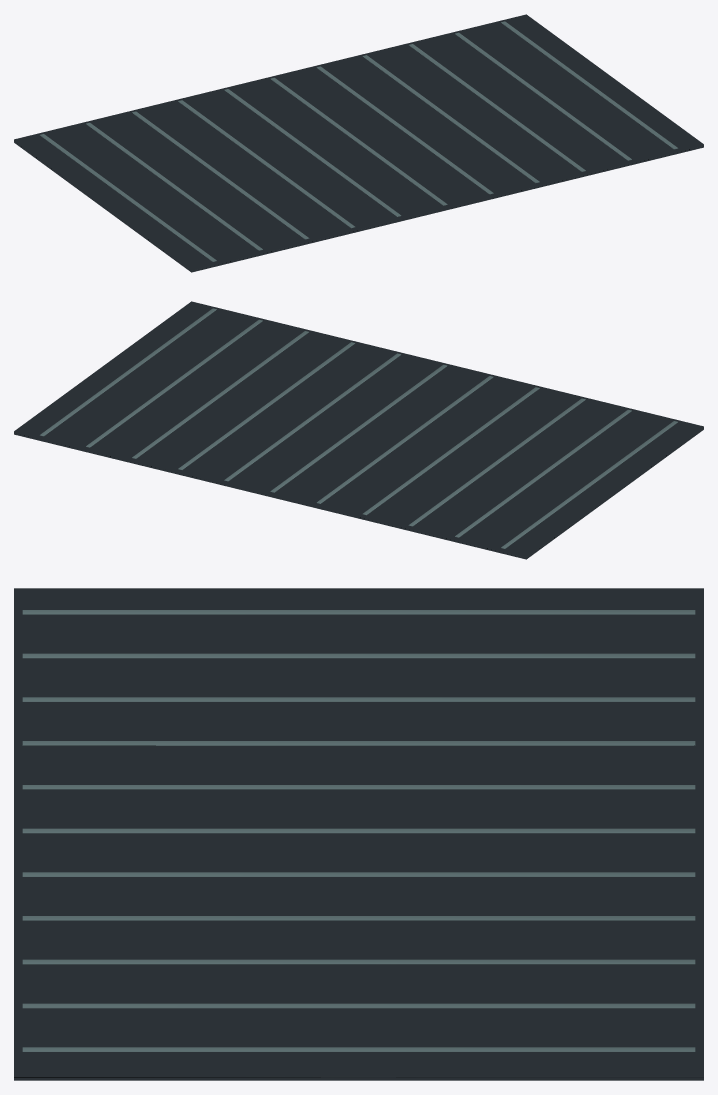
File: corner_belt.dae
3 renders of one model, top to bottom at view 1: azimuth 30°, elevation 25°; view 2: azimuth 150°, elevation 25°; view 3: azimuth 270°, elevation 25°, orthographic. The views are drawn at different scales.
Visible parts, largest first — view 1: contact, texture_-0.270, texture_-0.180, texture_-0.090, texture_0.450, texture_0.090, texture_0.180, texture_0.360, texture_-0.360, texture_0.000, texture_0.270, texture_-0.450; view 2: contact, texture_-0.270, texture_-0.180, texture_-0.090, texture_0.450, texture_0.090, texture_0.180, texture_0.360, texture_-0.360, texture_0.000, texture_0.270, texture_-0.450; view 3: contact, texture_0.270, texture_-0.360, texture_0.000, texture_0.360, texture_-0.450, texture_-0.270, texture_-0.180, texture_-0.090, texture_0.090, texture_0.180, texture_0.450.
Boxes of the visible parts, x1,y1,x2,y2 form: contact: (14,14,703,272); texture_-0.270: (132,111,309,239); texture_-0.180: (178,100,354,228); texture_-0.090: (224,89,401,216); texture_0.450: (501,21,677,149); texture_0.090: (316,66,493,194); texture_0.180: (362,55,539,182); texture_0.360: (455,32,631,160); texture_-0.360: (86,122,262,250); texture_0.000: (270,77,447,205); texture_0.270: (409,44,585,171); texture_-0.450: (40,134,216,261); contact: (14,301,703,559); texture_-0.270: (408,398,585,526); texture_-0.180: (363,387,539,515); texture_-0.090: (316,376,493,503); texture_0.450: (40,308,216,436); texture_0.090: (224,353,401,481); texture_0.180: (178,342,355,469); texture_0.360: (86,319,262,447); texture_-0.360: (455,409,631,537); texture_0.000: (270,364,447,492); texture_0.270: (132,331,308,458); texture_-0.450: (501,421,677,548); contact: (14,588,703,1080); texture_0.270: (22,959,695,964); texture_-0.360: (22,653,695,658); texture_0.000: (22,828,695,833); texture_0.360: (22,1003,695,1008); texture_-0.450: (22,610,695,614); texture_-0.270: (22,697,695,701); texture_-0.180: (22,741,695,745); texture_-0.090: (22,785,695,789); texture_0.090: (22,872,695,876); texture_0.180: (22,916,695,920); texture_0.450: (22,1047,695,1051).
Size of the model in its own units: 1 by 0.6 by 0.0068.
